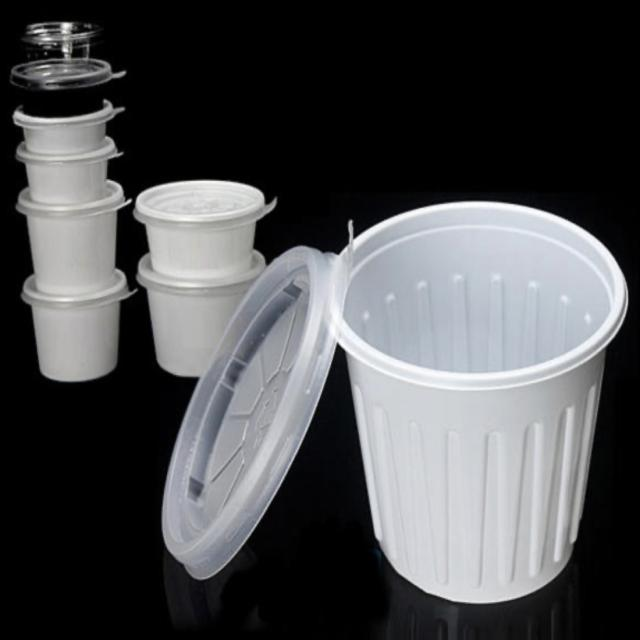recyclable: (335, 182, 635, 611), (162, 238, 344, 596), (0, 46, 137, 386), (131, 162, 270, 378)
